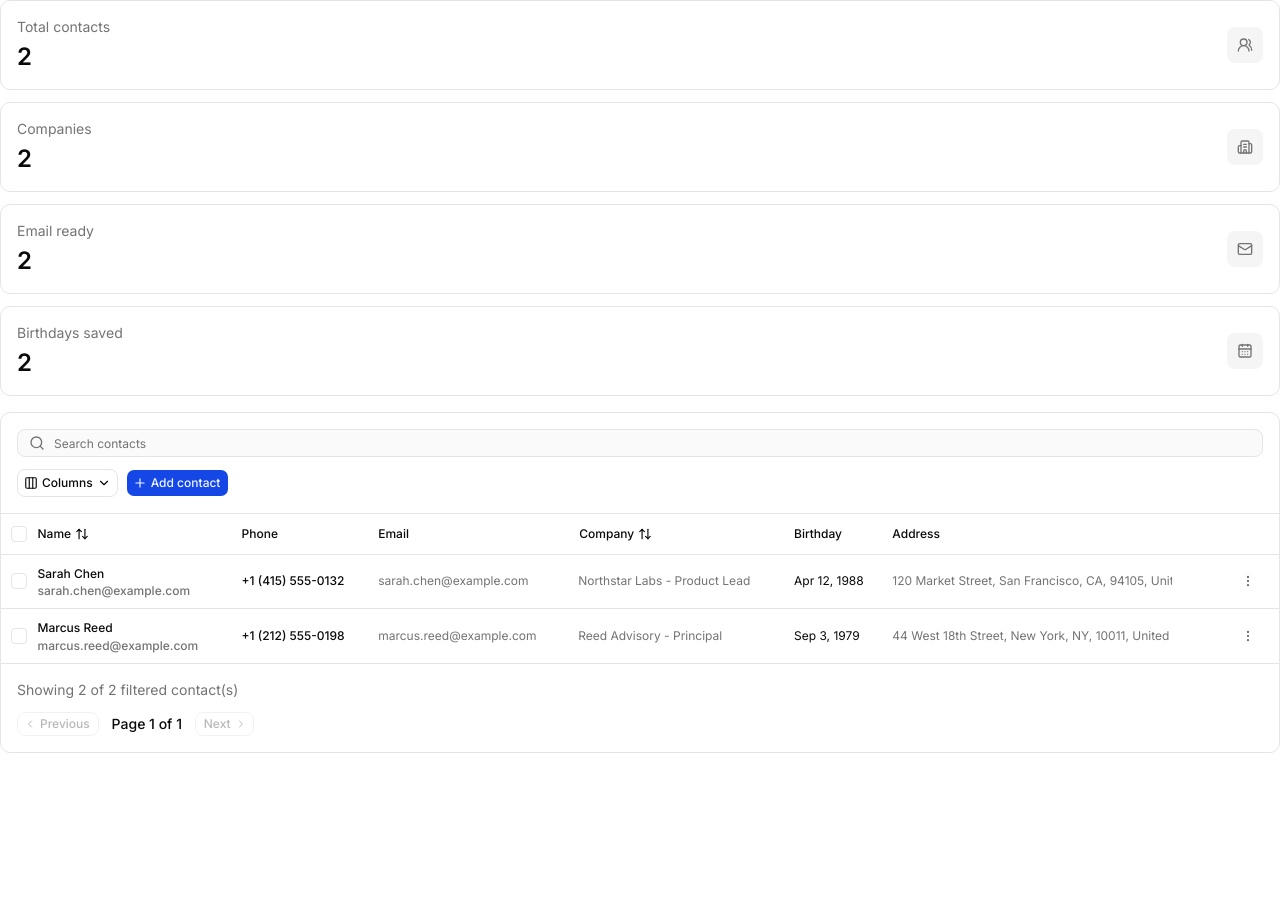
Test case: DataTable › opens a contact details drawer from a contact name
The width and height of the screenshot is (1280, 900).
Click the button "Sarah Chen sarah.chen@example.com": point(114, 581) [36,562,191,600]
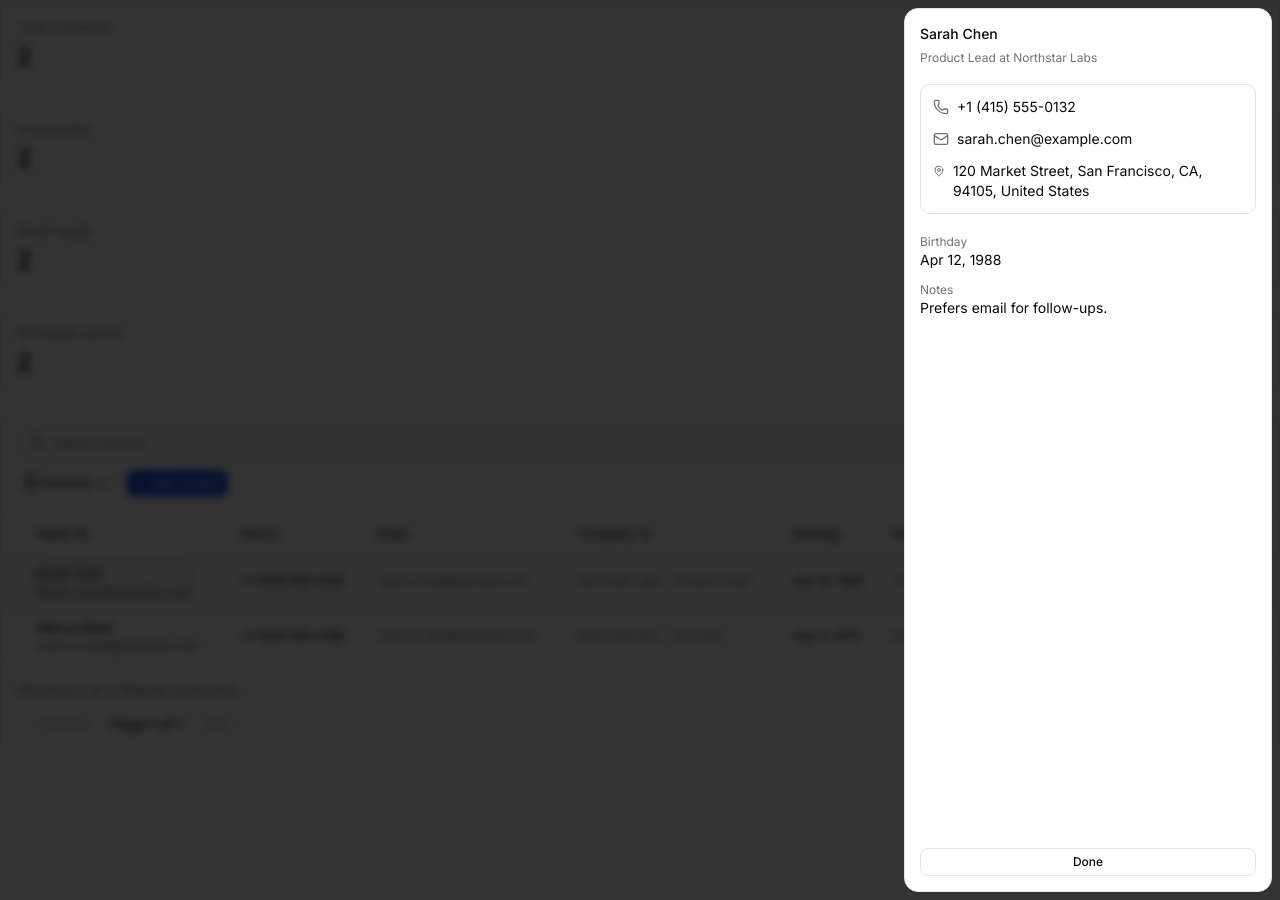
Expected: the heading "Sarah Chen" is shown, [920,25,998,42]
Expected: the text "Product Lead at Northstar Labs" is shown, [920,50,1097,65]
Expected: the text "Prefers email for follow-ups." is shown, [920,298,1107,316]
